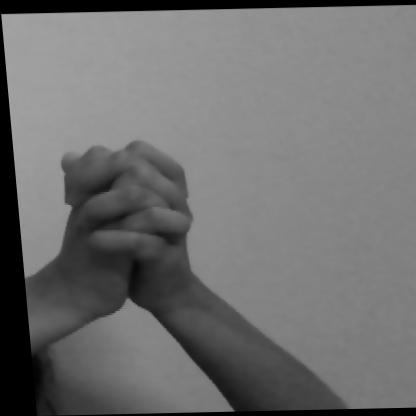prayer: (9, 118, 330, 382)
